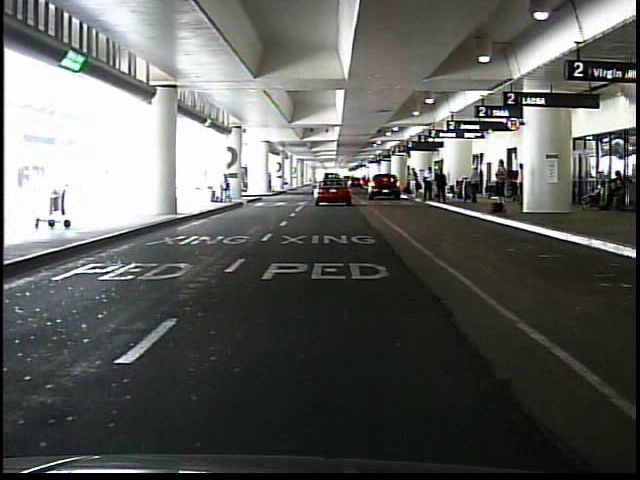person: (606, 166, 630, 208), (493, 160, 510, 215), (514, 161, 532, 208), (436, 169, 450, 205), (470, 167, 482, 205), (408, 166, 421, 199), (219, 173, 232, 205), (424, 167, 435, 203)
